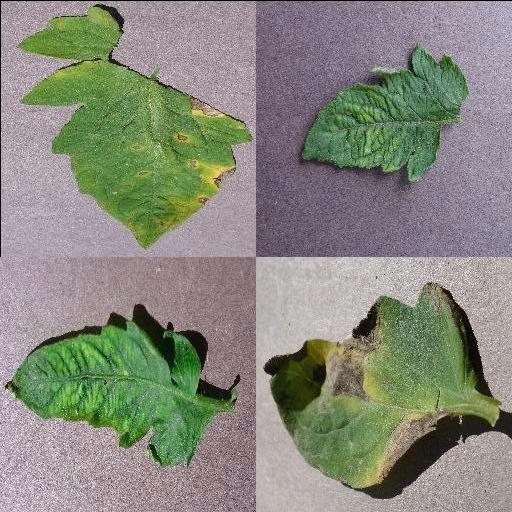Early Blight: (264, 281, 476, 490)
Mosaic Virus: (4, 317, 216, 469), (299, 40, 467, 180)
Septoria: (19, 60, 252, 250)
